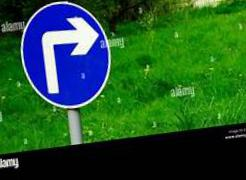right: (20, 3, 110, 109)
